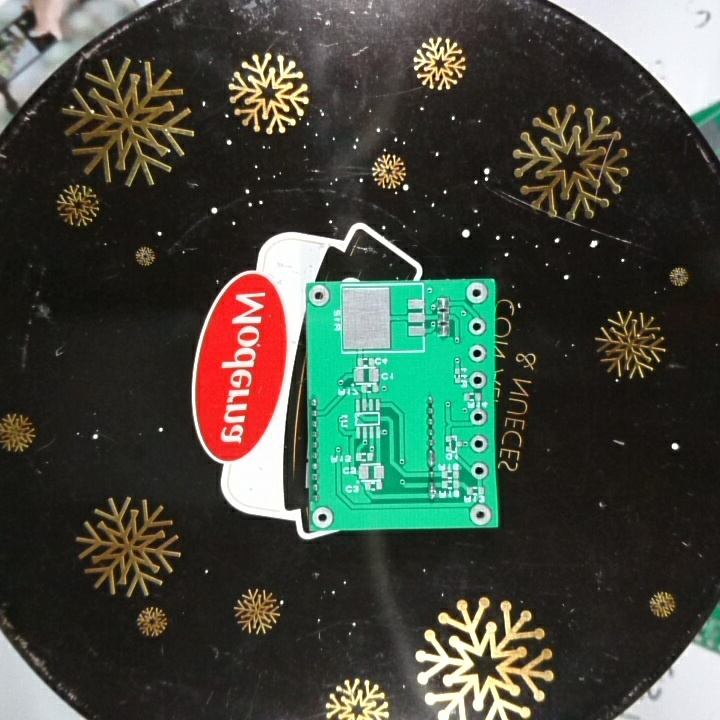F: (462, 280, 491, 306), (309, 503, 336, 529), (467, 501, 494, 525), (307, 283, 331, 309), (465, 314, 490, 338), (467, 369, 491, 391), (467, 433, 491, 455), (465, 342, 488, 364), (468, 406, 490, 427), (469, 460, 491, 481)
P: (427, 478, 438, 501), (426, 449, 437, 469)
